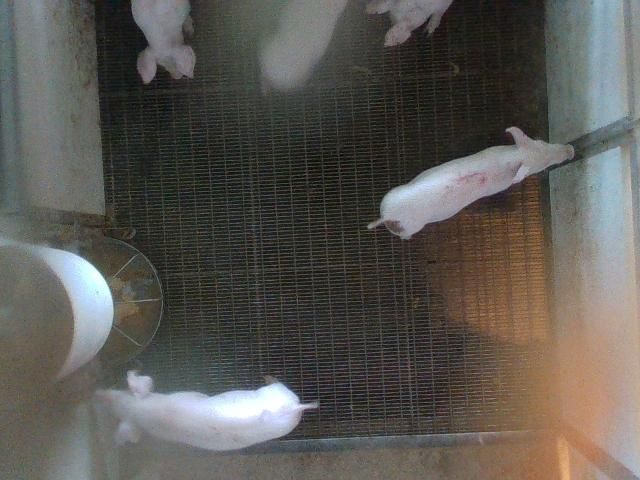pig-5: (368, 126, 574, 239)
